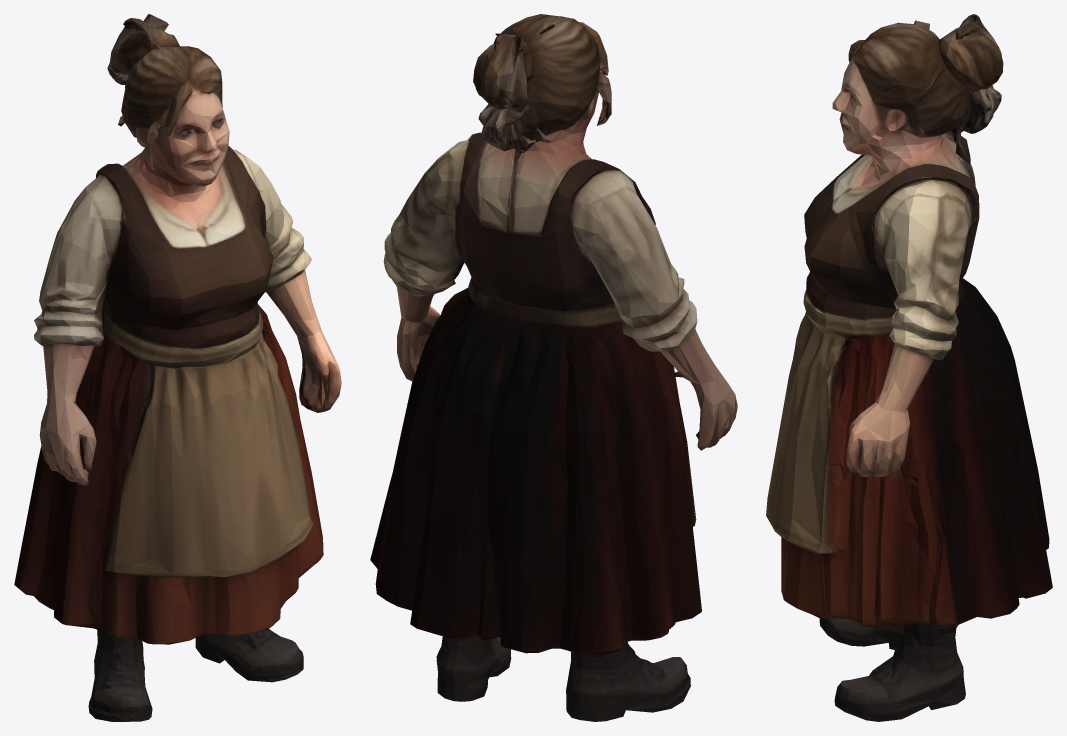
Rendered from innkeeper.glb.
3 renders of one model, left to right at view 1: azimuth 30°, elevation 25°; view 2: azimuth 150°, elevation 25°; view 3: azimuth 270°, elevation 25°, orthographic. The views are drawn at different scales.
Visible parts, largest first — view 1: world; view 2: world; view 3: world.
Boxes of the visible parts, left/top/right/bottom form: world: left=14, top=14, right=341, bottom=721; world: left=370, top=14, right=737, bottom=721; world: left=766, top=14, right=1052, bottom=721.
Bounding box in the file's own units: 0.4768 × 0.9995 × 0.3987.
1 material, 1 textured.
